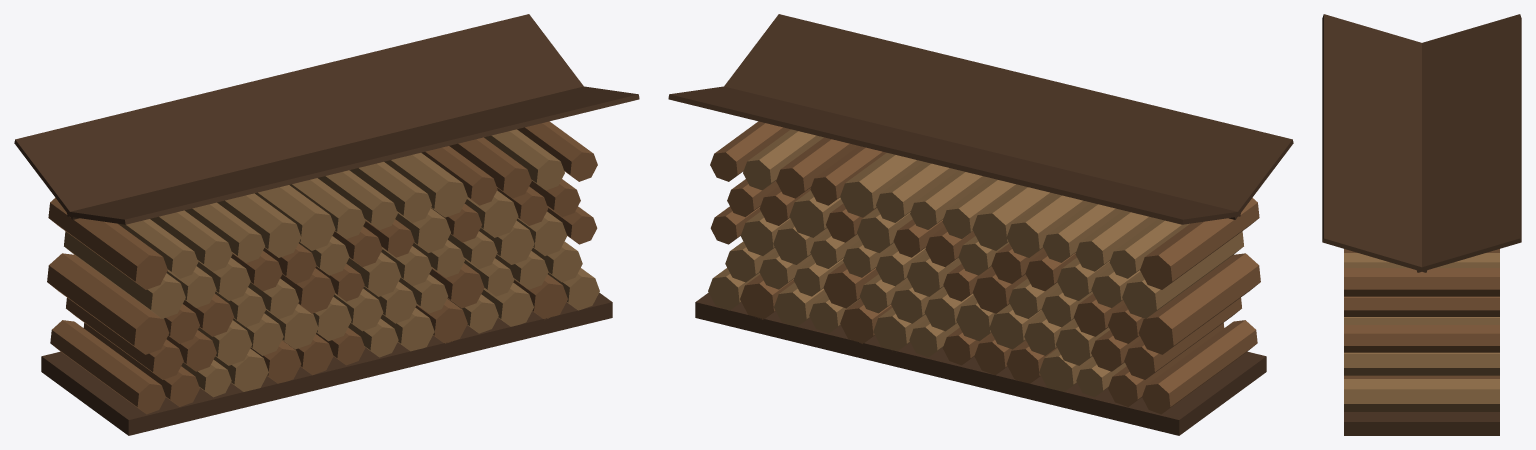
The model's file is prop-firewood.glb.
3 views of the same model, side by side, from view 1: azimuth 30°, elevation 25°; view 2: azimuth 150°, elevation 25°; view 3: azimuth 270°, elevation 25° (orthographic). The views are drawn at different scales.
Parts seen in each view (by area): view 1: firewood; view 2: firewood; view 3: firewood.
Boxes of the visible parts, x1,y1,x2,y2 form: firewood: (14,14,639,435); firewood: (668,14,1293,435); firewood: (1322,14,1521,435).
Bounding box in the file's own units: 3.4 × 1.44 × 1.28.
